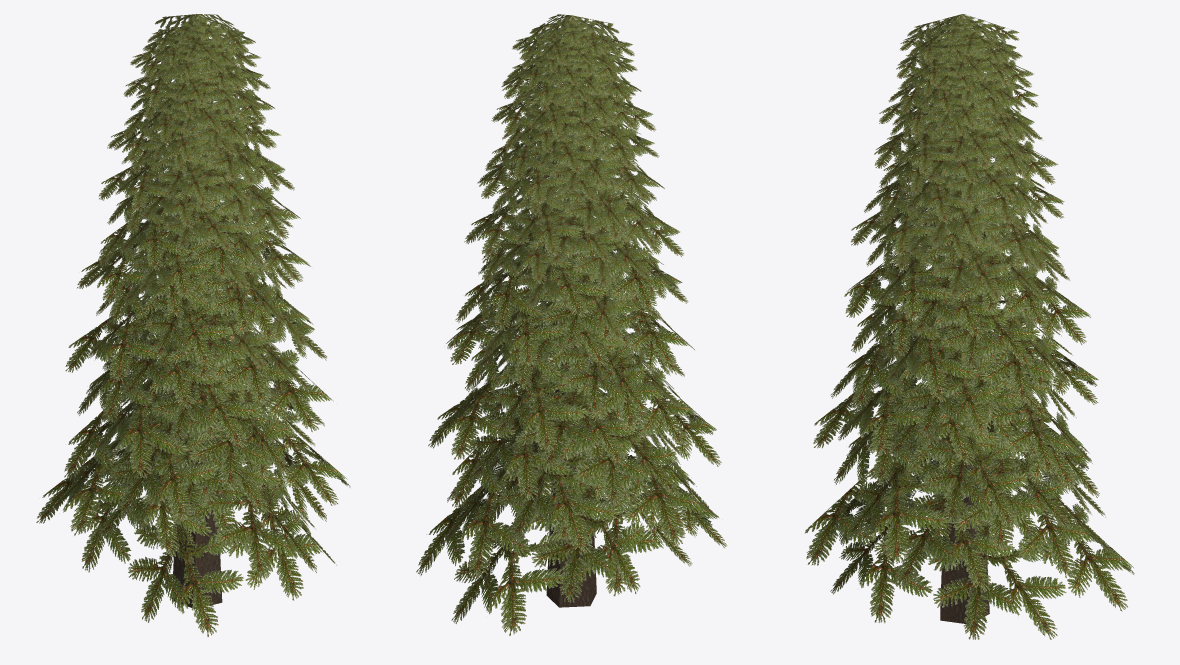
File: tree.glb
3 renders of one model, left to right at view 1: azimuth 30°, elevation 25°; view 2: azimuth 150°, elevation 25°; view 3: azimuth 270°, elevation 25°, orthographic. The views are drawn at different scales.
Parts seen in each view (by area): view 1: tree; view 2: tree; view 3: tree.
Part boxes in pixels (x1=…): tree: x1=36, y1=14, x2=350, y2=636; tree: x1=416, y1=14, x2=727, y2=635; tree: x1=804, y1=14, x2=1134, y2=639.
Size of the model in its own units: 6.63 by 12.08 by 7.12.
Materials: 2 (2 with a texture image).
